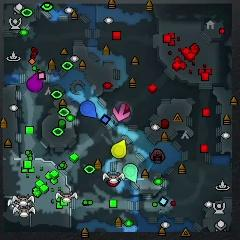p1: (80, 100, 97, 118)
p2: (122, 162, 138, 184)
p3: (26, 70, 45, 94)
p4: (111, 139, 128, 159)
x1: (112, 103, 131, 121)
